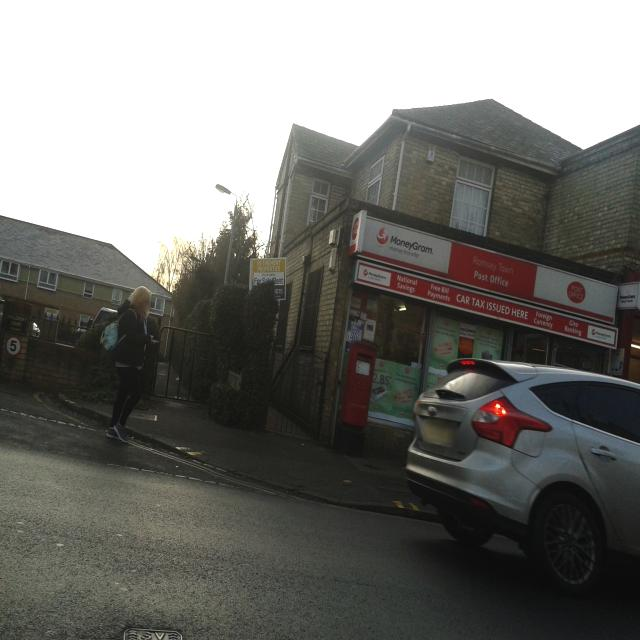car: (404, 357, 640, 594)
